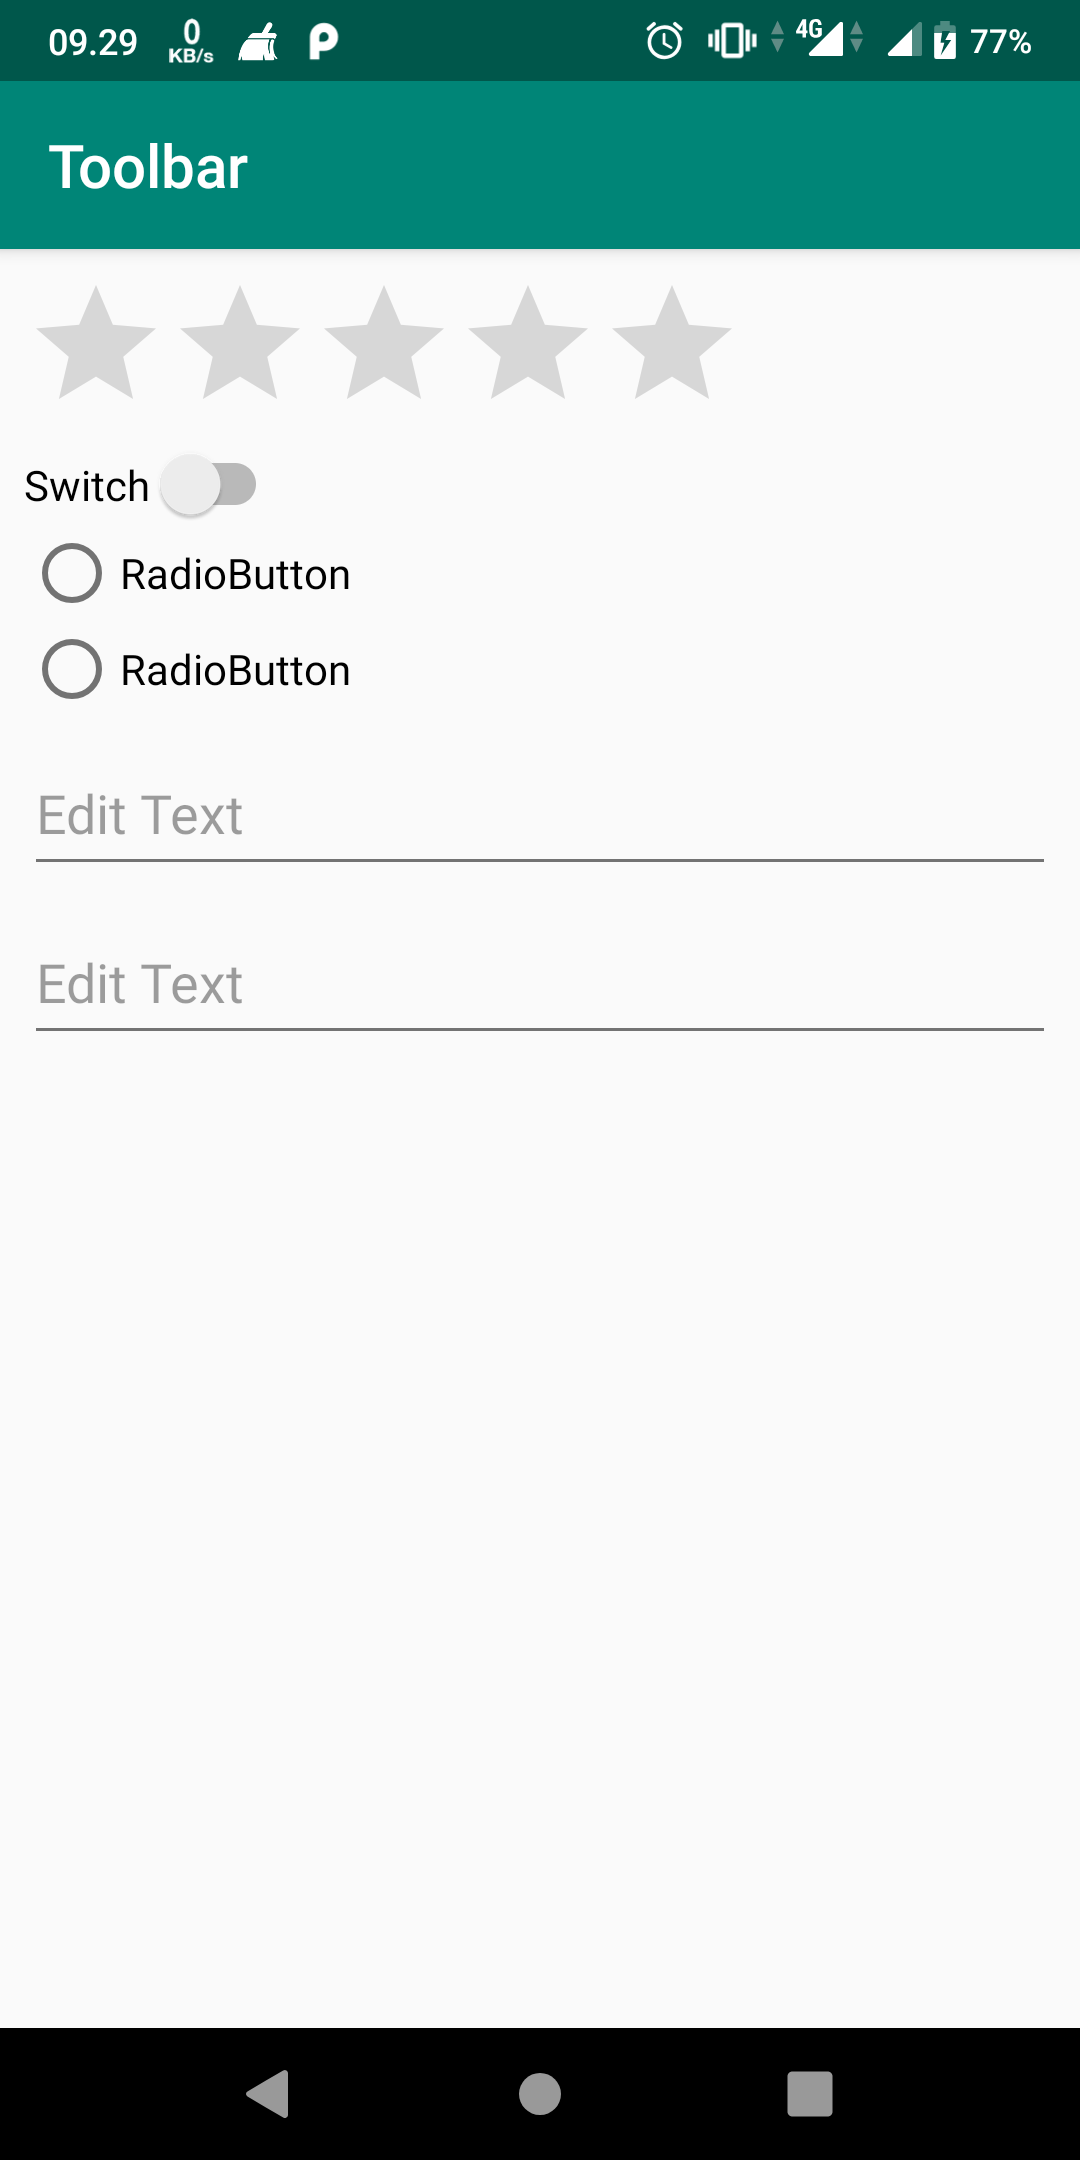editText: (19, 780, 1057, 893), (22, 941, 1061, 1051)
radioButton: (34, 528, 357, 612), (34, 628, 364, 709)
ratingBar: (28, 277, 748, 422)
switch: (19, 455, 296, 519)
toolbar: (6, 83, 1080, 251)
